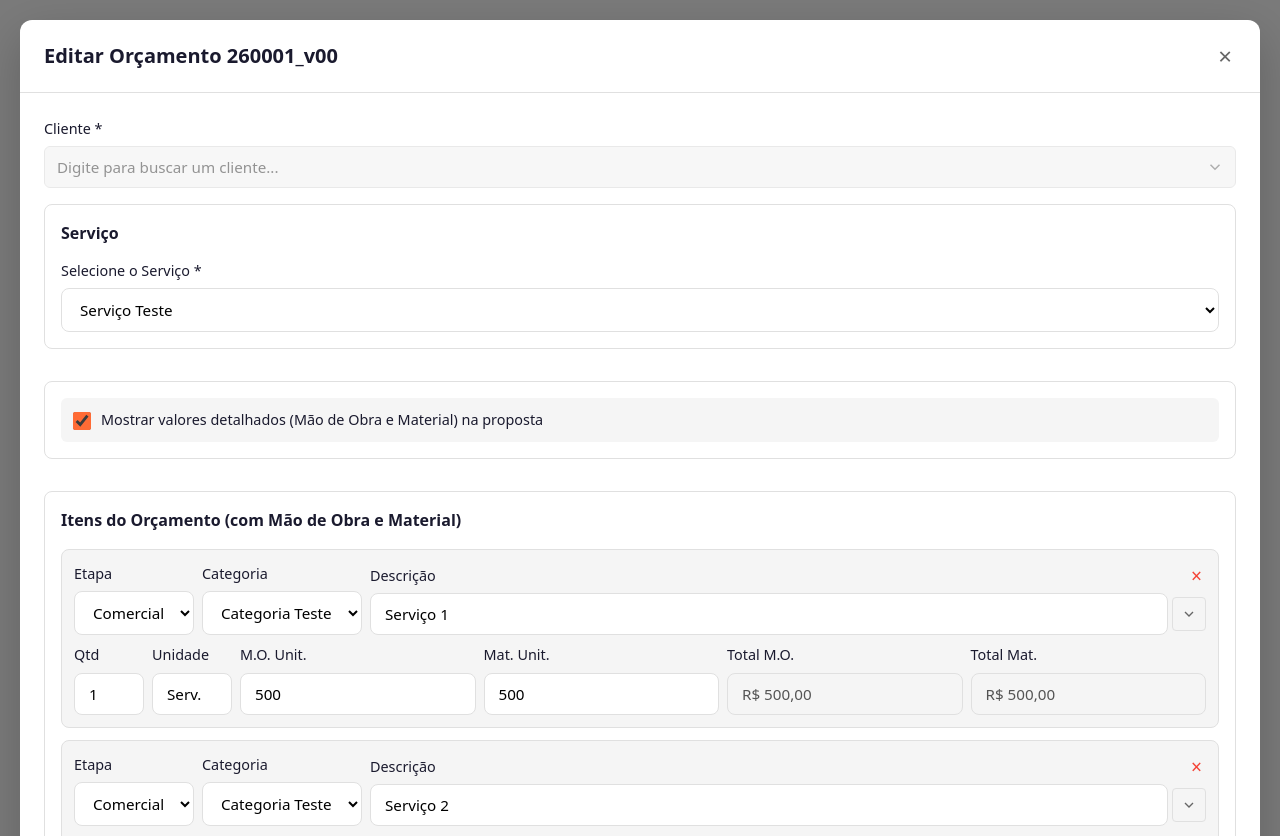
Test: OrcamentoModal › deve remover item ao clicar no botão de remover
The image size is (1280, 836).
Click the 2nd button titled "Remover item": (1196, 576) [1183,558,1210,593]
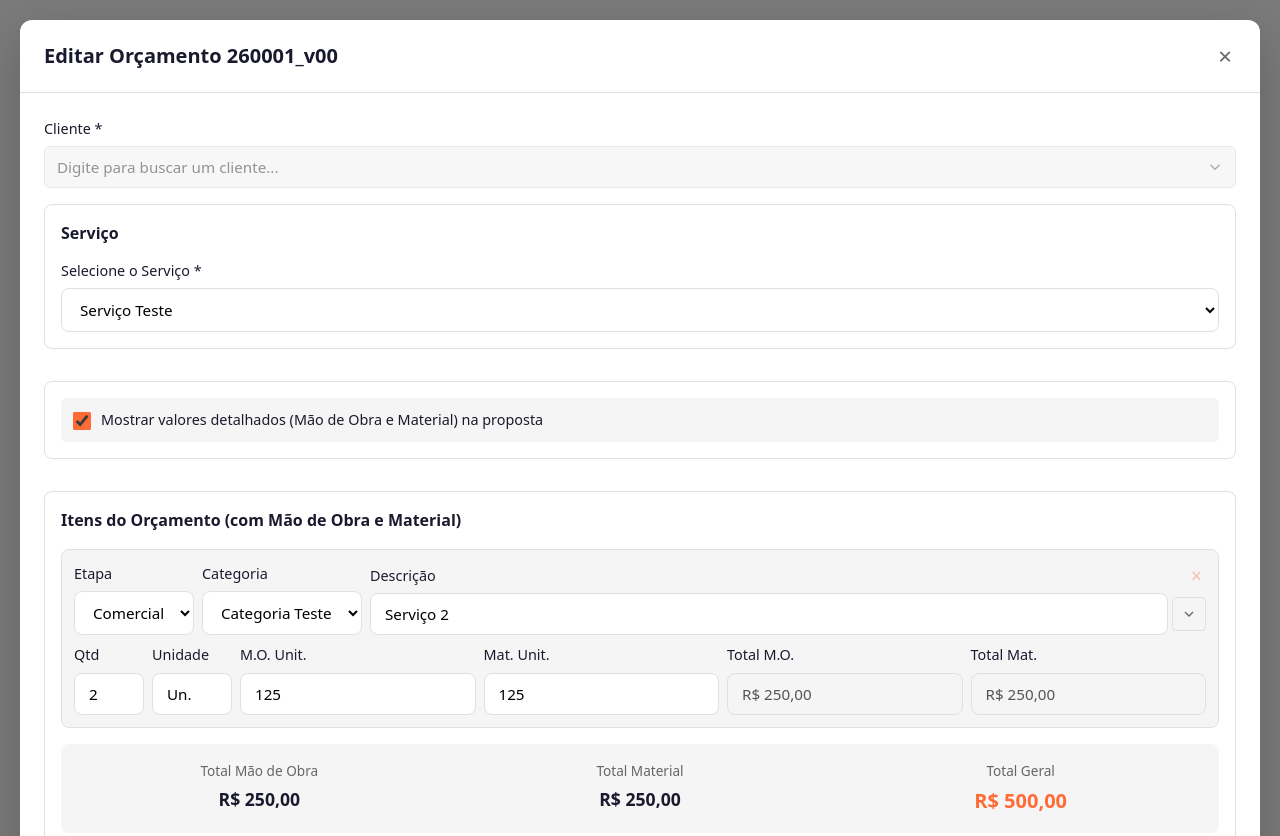
expect the field showing "Serviço 1" is not shown: met
expect the field showing "Serviço 2" below "Descrição" is shown: met, box [370,594,1168,636]
